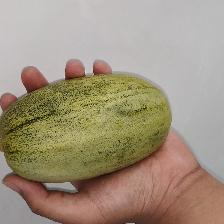gua: (18, 94, 159, 161)
